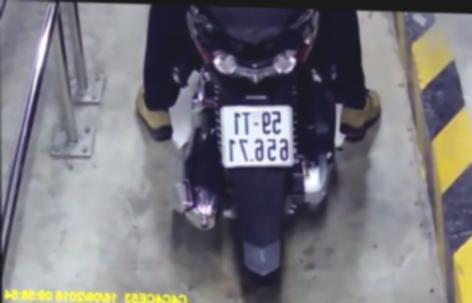License_Plate: (216, 99, 303, 175)
